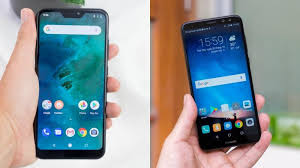mi: (34, 8, 108, 161), (179, 15, 263, 147)
